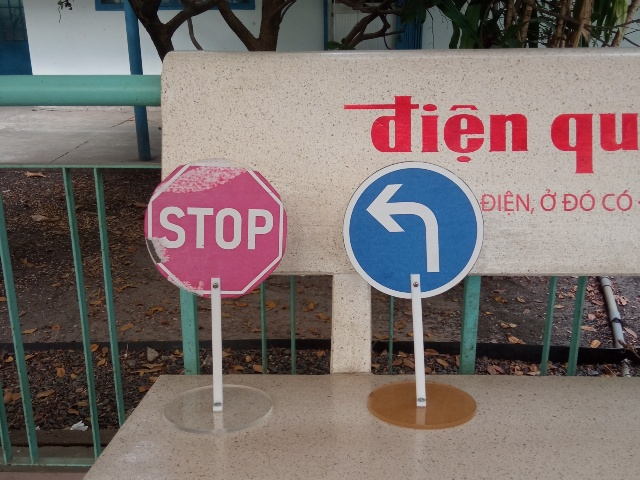Left_Sign: (342, 161, 485, 300)
Stop_Sign: (145, 159, 288, 299)
